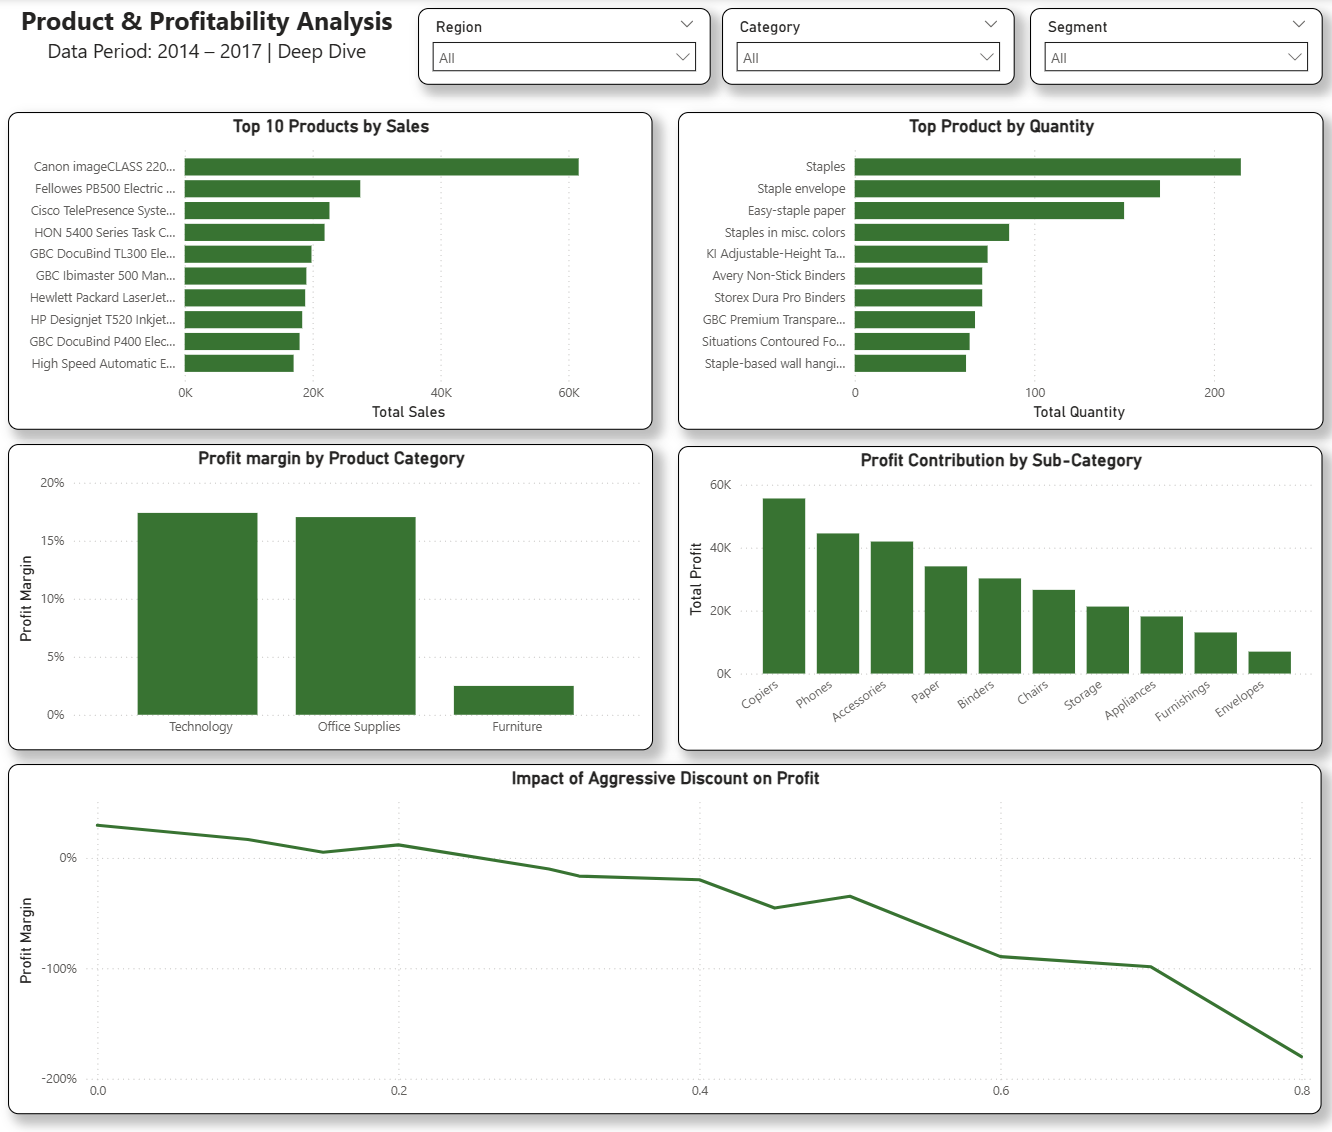

What the dashboard file says about the page in this screenshot:
{"tool":"powerbi","page":{"name":"Product & Profitability Analysis","canvas":[1280,1100],"ordinal":1},"visuals":[{"type":"textbox","box":[10,0,380,81.7],"z":0},{"type":"slicer","title":"What is the total Sales by region?","fields":{"Values":["superstore_cleaned.Region"]},"box":[401.7,10,280,73.3],"z":1000},{"type":"slicer","title":"What is the total Sales by region?","fields":{"Values":["superstore_cleaned.Category"]},"box":[693.3,10,280,73.3],"z":2000},{"type":"slicer","title":"What is the total Sales by region?","fields":{"Values":["superstore_cleaned.Segment"]},"box":[986.7,10,280,73.3],"z":3000},{"type":"barChart","title":"Top 10 Products by Sales","fields":{"Category":["superstore_cleaned.Product Name"],"Y":["Sum(superstore_cleaned.Sales)"]},"box":[10,108.8,616.2,303.8],"z":4000},{"type":"barChart","title":"Top Product by Quantity","fields":{"Category":["superstore_cleaned.Product Name"],"Y":["Sum(superstore_cleaned.Quantity)"]},"box":[651.2,108.8,617.5,303.8],"z":5000},{"type":"columnChart","title":"Profit margin by Product Category","fields":{"Category":["superstore_cleaned.Category"],"Y":["superstore_cleaned.final_profit_margin"]},"box":[10,426,617,293],"z":6000},{"type":"columnChart","title":"Profit Contribution by Sub-Category","fields":{"Category":["superstore_cleaned.Sub_Category"],"Y":["Sum(superstore_cleaned.Profit)"]},"box":[650,428.3,616.7,291.7],"z":7000},{"type":"lineChart","title":"Impact of Aggressive Discount on Profit","fields":{"Category":["superstore_cleaned.Discount"],"Y":["superstore_cleaned.final_profit_margin"]},"box":[10,732.5,1256.2,335],"z":8000}]}

Visuals, with their boxes in screenshot pixels (x1, y1, x2, y2), scaled from the page's 1280x1100 canvas onto the 1332x1132 screenshot:
textbox: x1=10 y1=0 x2=406 y2=84
"What is the total Sales by region?" slicer: x1=418 y1=10 x2=709 y2=86
"What is the total Sales by region?" slicer: x1=721 y1=10 x2=1013 y2=86
"What is the total Sales by region?" slicer: x1=1027 y1=10 x2=1318 y2=86
"Top 10 Products by Sales" barChart: x1=10 y1=112 x2=652 y2=425
"Top Product by Quantity" barChart: x1=678 y1=112 x2=1320 y2=425
"Profit margin by Product Category" columnChart: x1=10 y1=438 x2=652 y2=740
"Profit Contribution by Sub-Category" columnChart: x1=676 y1=441 x2=1318 y2=741
"Impact of Aggressive Discount on Profit" lineChart: x1=10 y1=754 x2=1318 y2=1099
